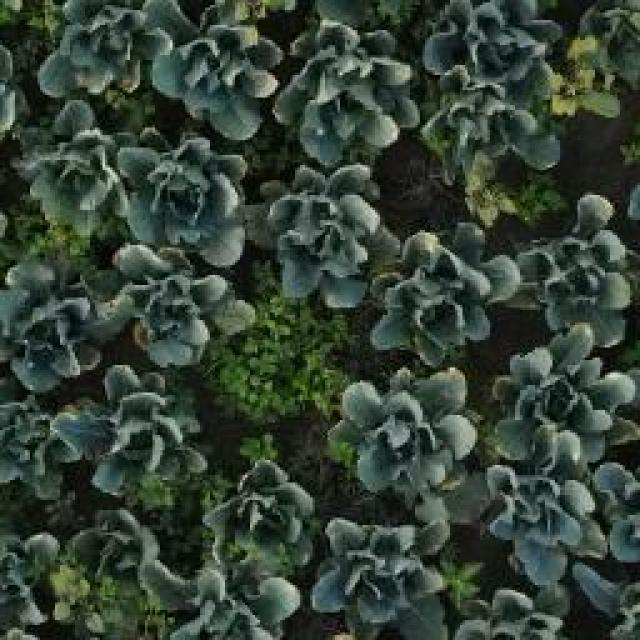cabbage: (504, 191, 637, 328), (282, 26, 417, 159), (112, 128, 253, 254), (143, 0, 274, 134), (505, 342, 638, 467), (68, 383, 202, 499), (104, 245, 233, 364), (377, 233, 503, 351), (334, 376, 459, 493), (260, 166, 377, 288), (0, 256, 108, 382), (318, 512, 430, 630), (486, 467, 606, 568), (34, 2, 134, 113), (422, 0, 567, 75), (433, 85, 555, 172), (212, 466, 310, 564), (0, 388, 79, 509), (157, 567, 284, 640), (465, 584, 576, 640)
